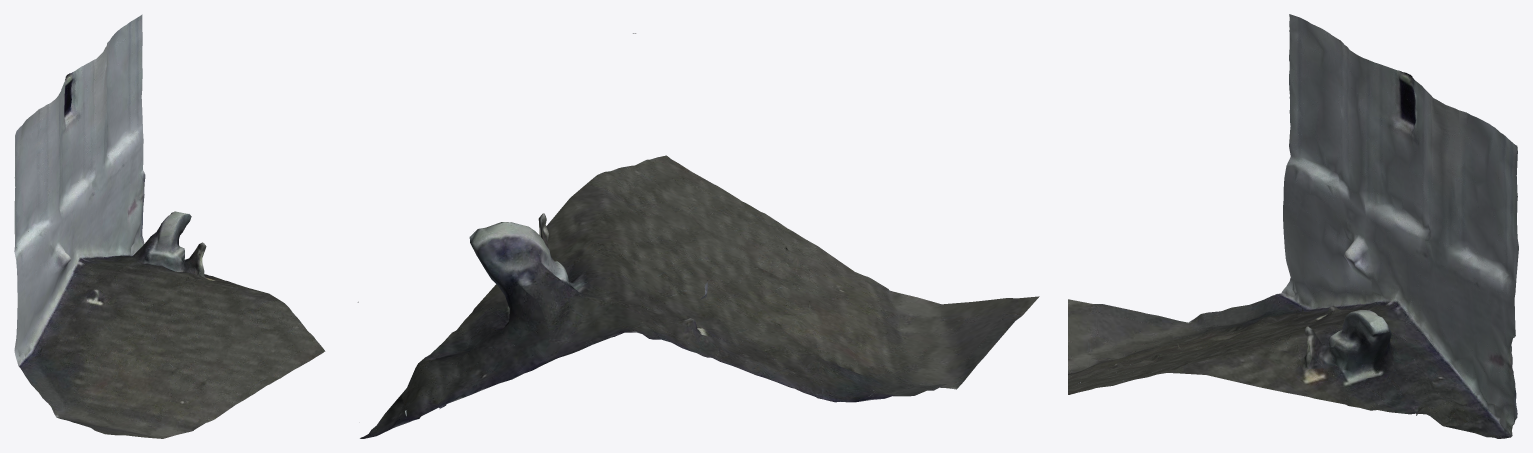
The picture shows the model from 3 angles, left to right: view 1: azimuth 30°, elevation 25°; view 2: azimuth 150°, elevation 25°; view 3: azimuth 270°, elevation 25°; orthographic projection. The views are drawn at different scales.
Size of the model in its own units: 5.87 by 6.41 by 8.48.
1 material, 1 textured.
